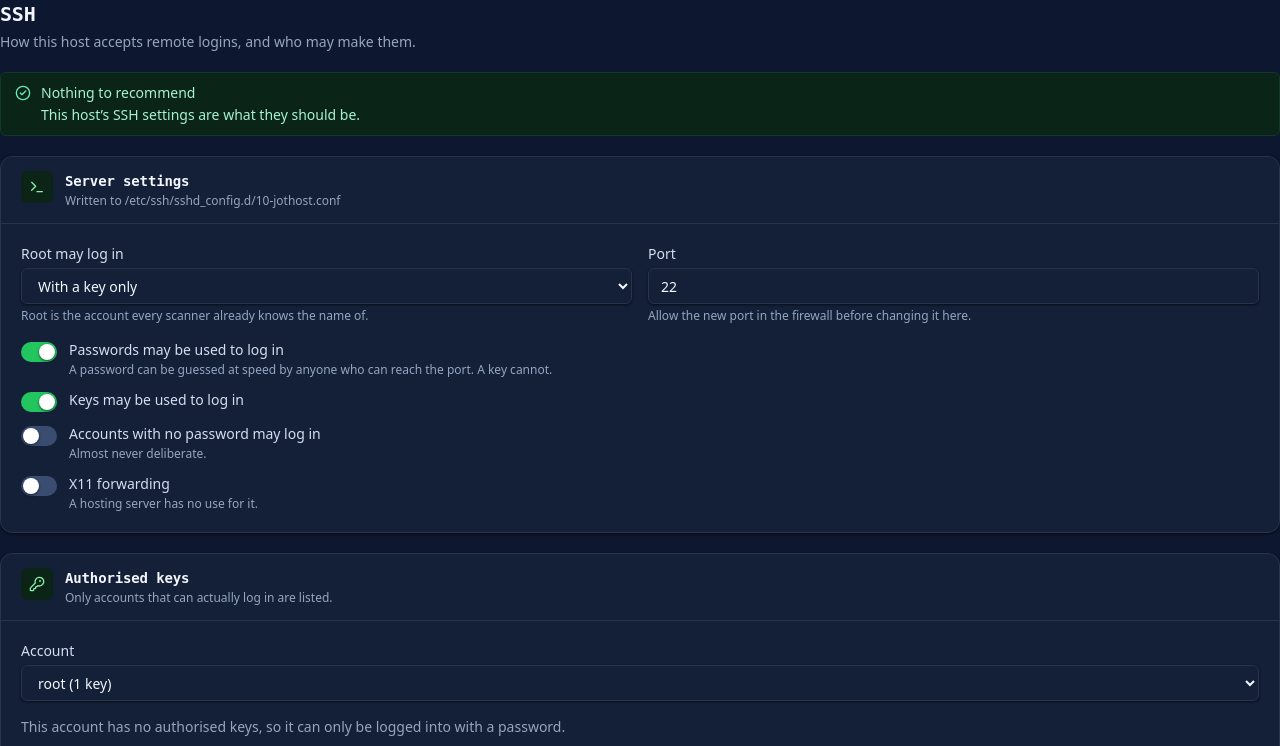
Test: SSHPage › shows the reason a change was refused
Click the switch labelled "Passwords may be used to log in" at (39, 352), box [21,342,57,362]
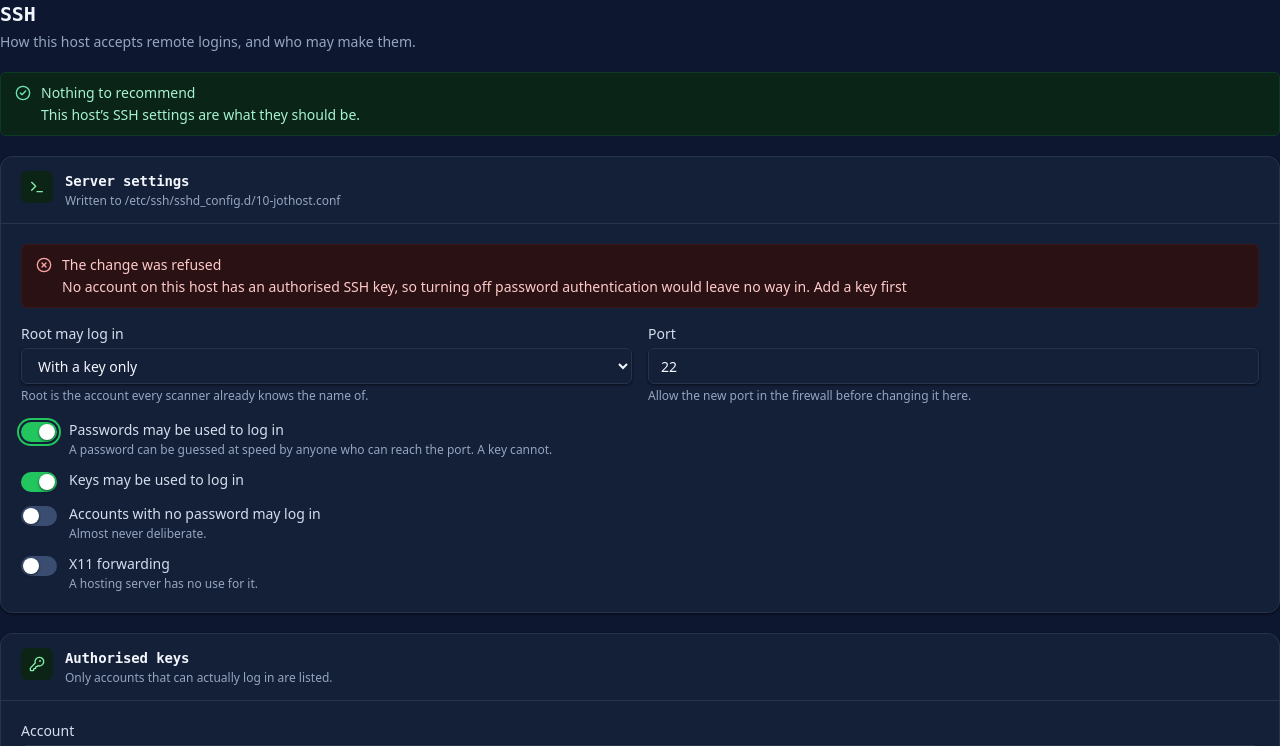
Result: the text "Add a key first" is shown at [62,277,907,296]
